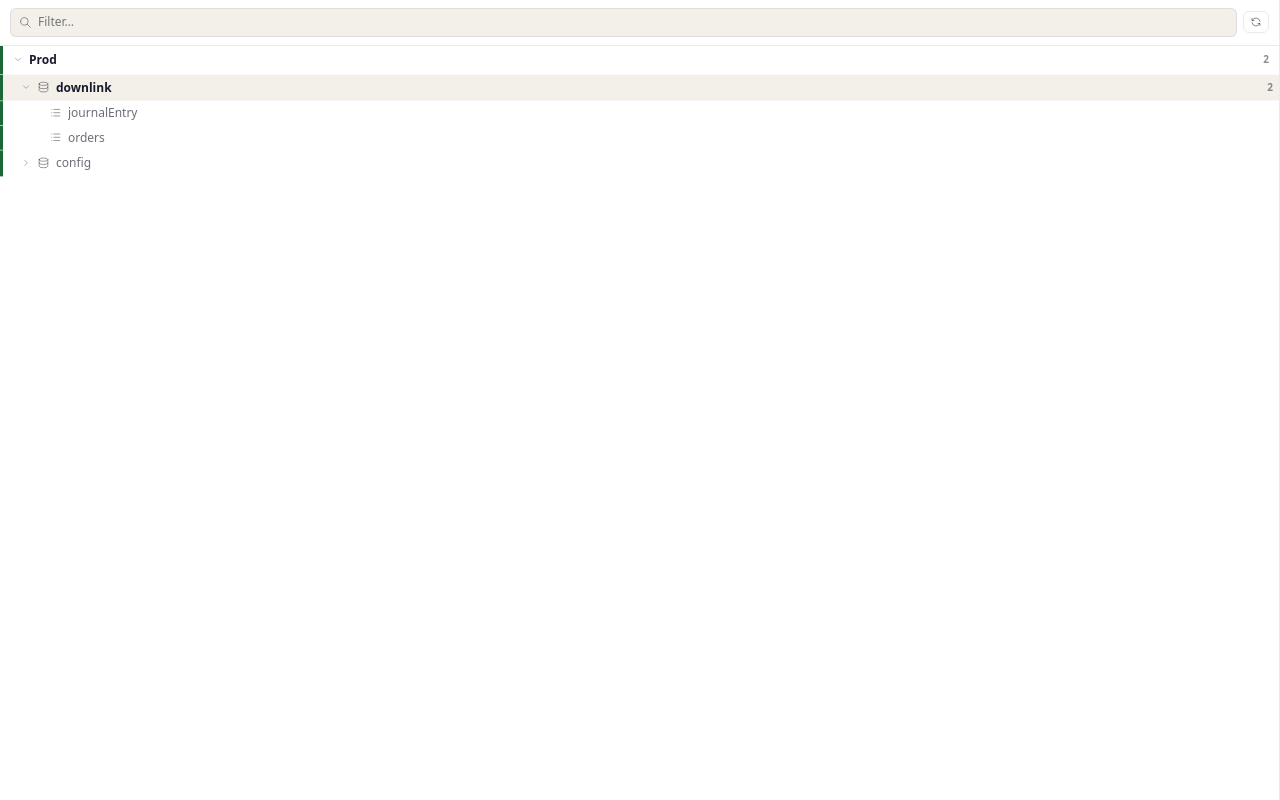
Test case: DbCollectionNavigator — render › filter narrows collections and hides DBs with no match
Expected: the text "journalEntry" is shown, [68, 104, 138, 121]
# Expand `config` too so we can observe filter-hide behavior.
Click the text "config" at (74, 162), box [56, 154, 91, 171]
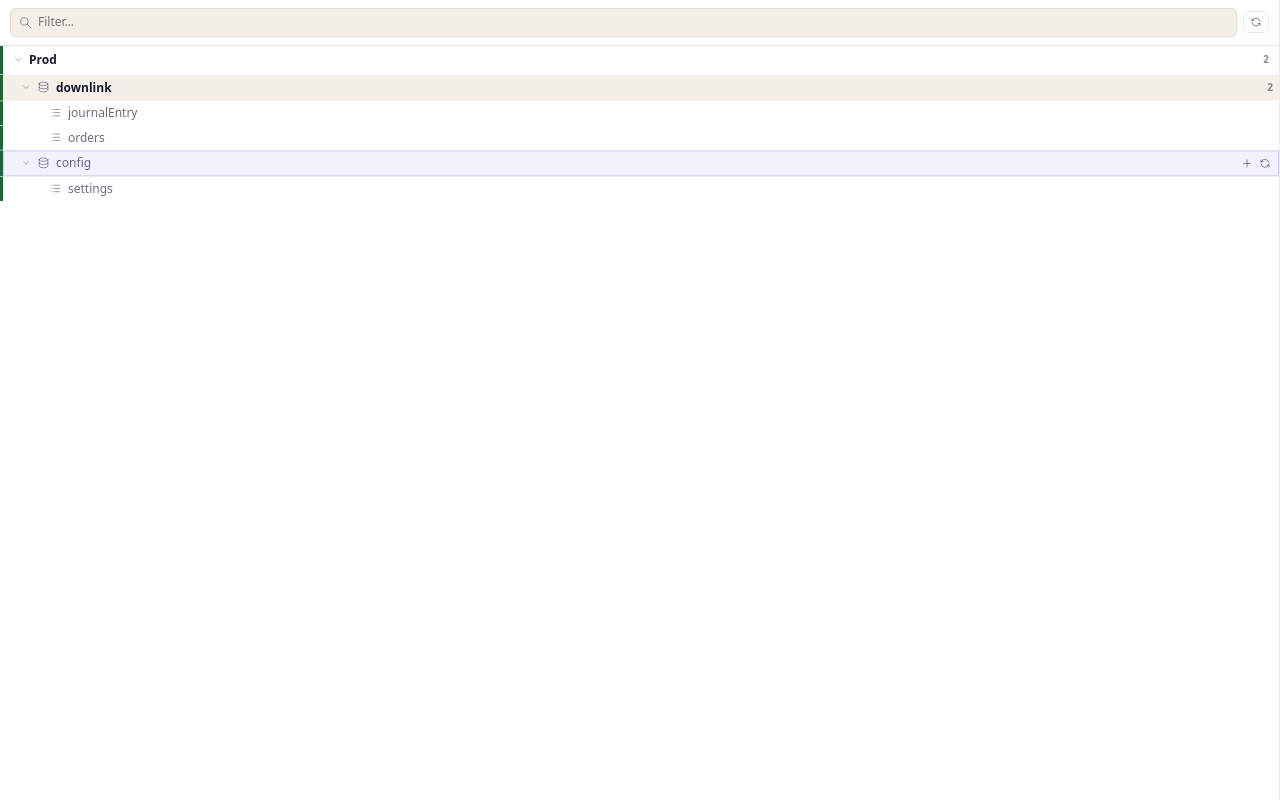
Result: the text "settings" is shown at [68, 180, 113, 197]
Type "orders" into the field named "Filter collections" at (633, 22), box [38, 13, 1228, 32]
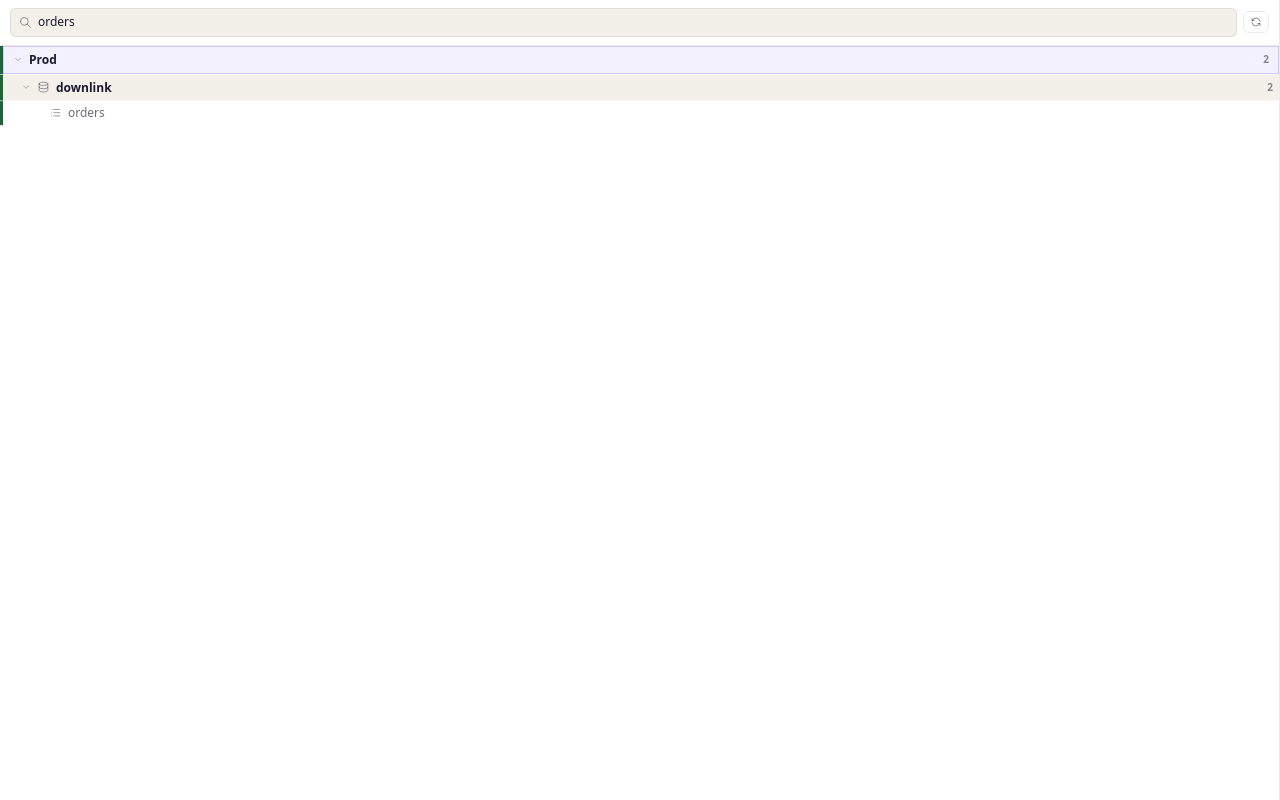
Result: the text "journalEntry" is gone
Result: the text "orders" is shown at [68, 104, 105, 121]
Result: the text "config" is gone
